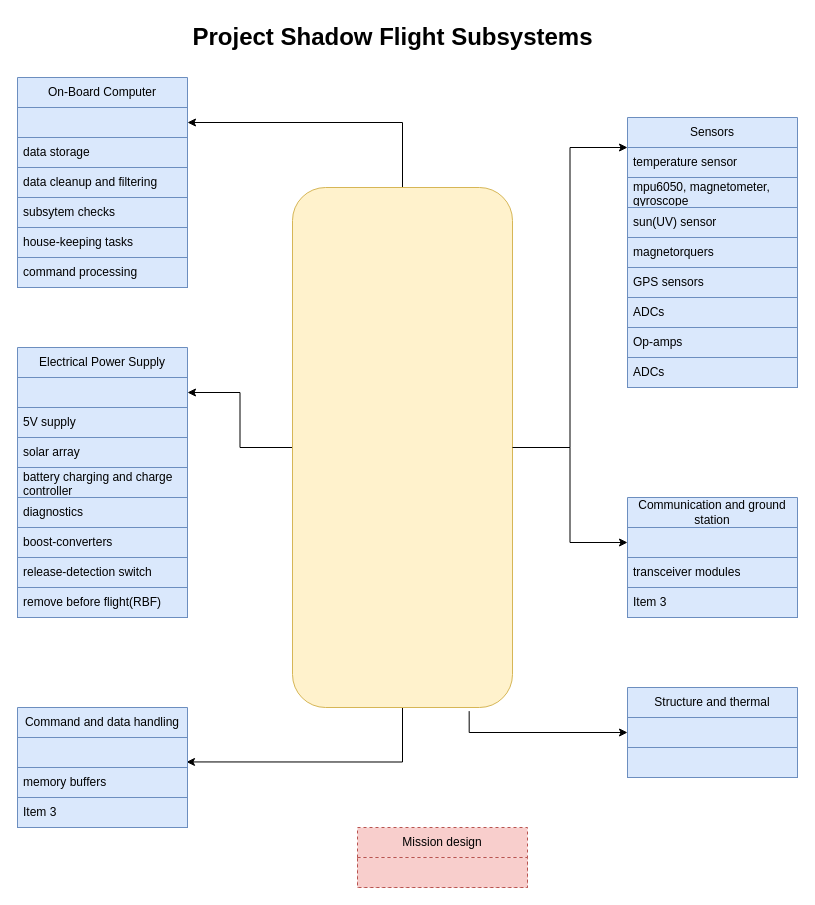
The diagram is 815 pixels wide and 905 high, and some of its shapes have lost their labels. The shapes that lost their labels are listed below. From the top down, each one's centre as x and y in pixels, then its label:
(x=102, y=122): data reception
(x=102, y=392): 3.3V supply
(x=402, y=447): Satelite
(x=712, y=542): antenna
(x=102, y=752): command parser
(x=712, y=732): frame and casing
(x=712, y=762): thermal subsystem
(x=442, y=872): capture monochrome images
